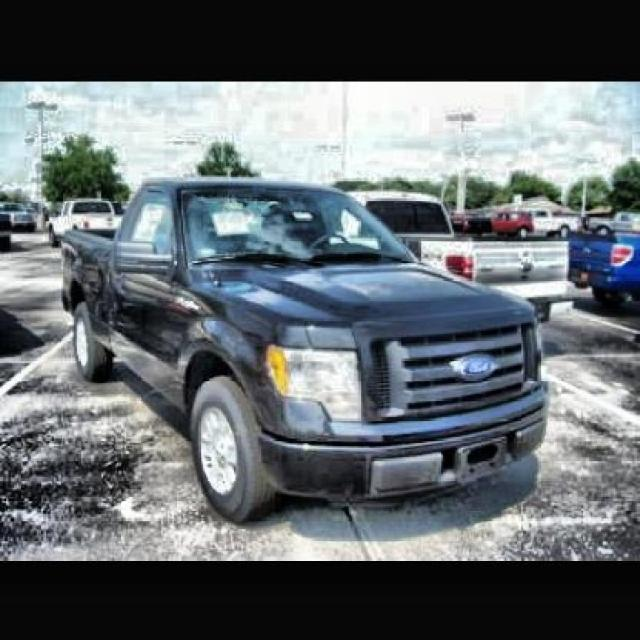black: (64, 181, 551, 519)
